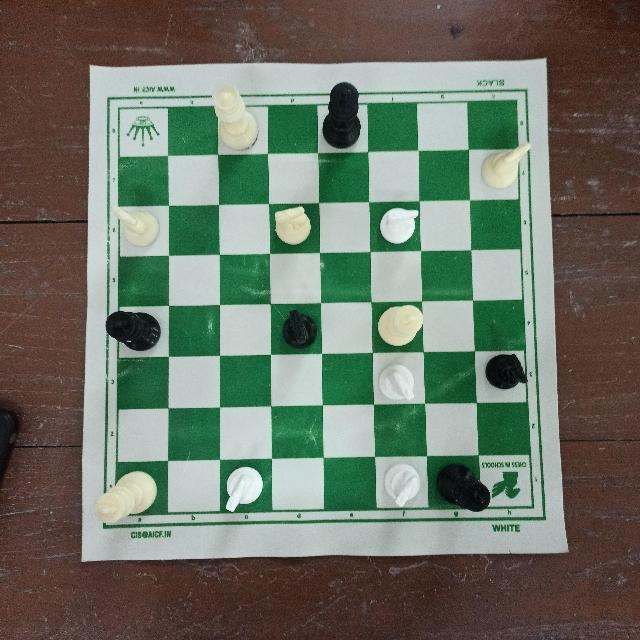black-king: (320, 72, 369, 147), (436, 461, 493, 518), (95, 305, 165, 350)
black-knight: (478, 348, 537, 395), (271, 308, 322, 358)
white-king: (92, 471, 158, 528), (375, 301, 427, 351)
white-knight: (477, 134, 535, 193), (220, 458, 267, 519), (381, 457, 425, 516), (109, 203, 164, 249), (374, 358, 424, 405), (270, 200, 317, 249), (370, 203, 417, 250)
white-queen: (208, 76, 264, 148)
